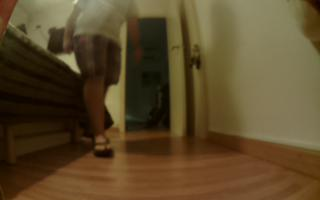person: (63, 1, 146, 159)
